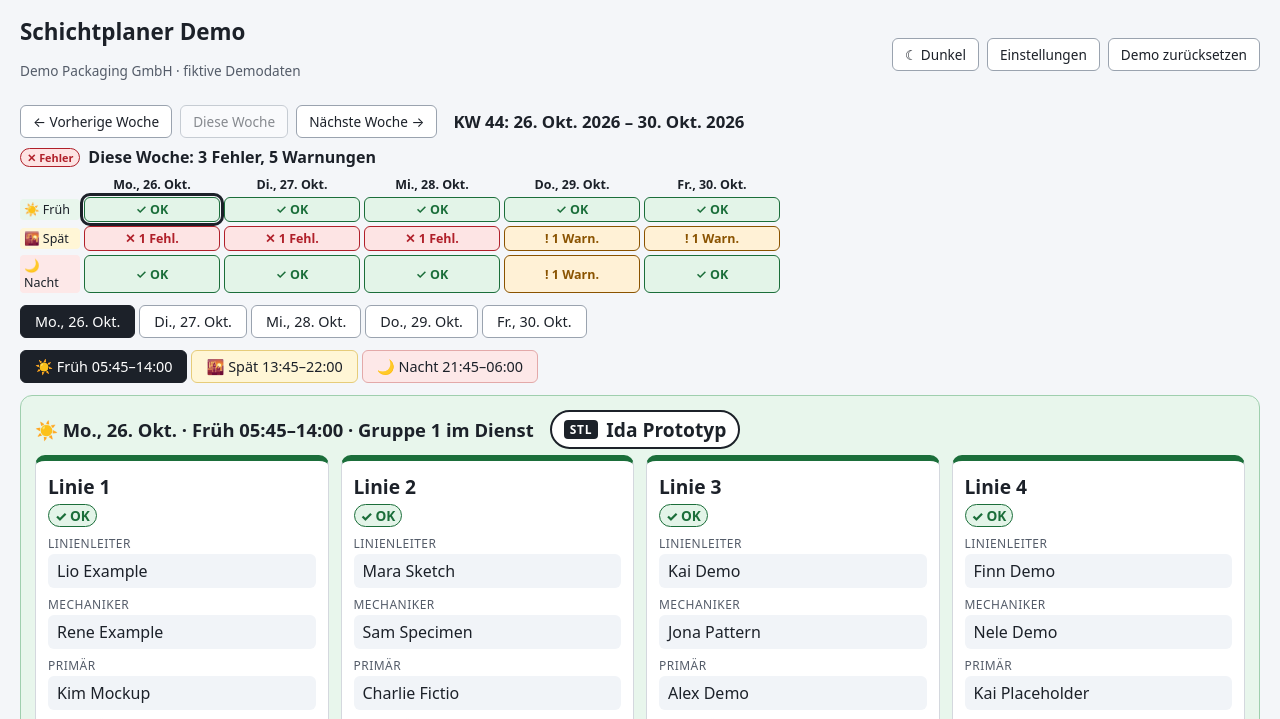
Test case: empty slots and cover › suggests a same-crew spare first
Click the button with aria-label ": Fehler,".
click(152, 239)  # box [84, 226, 220, 251]
(page scrolled)
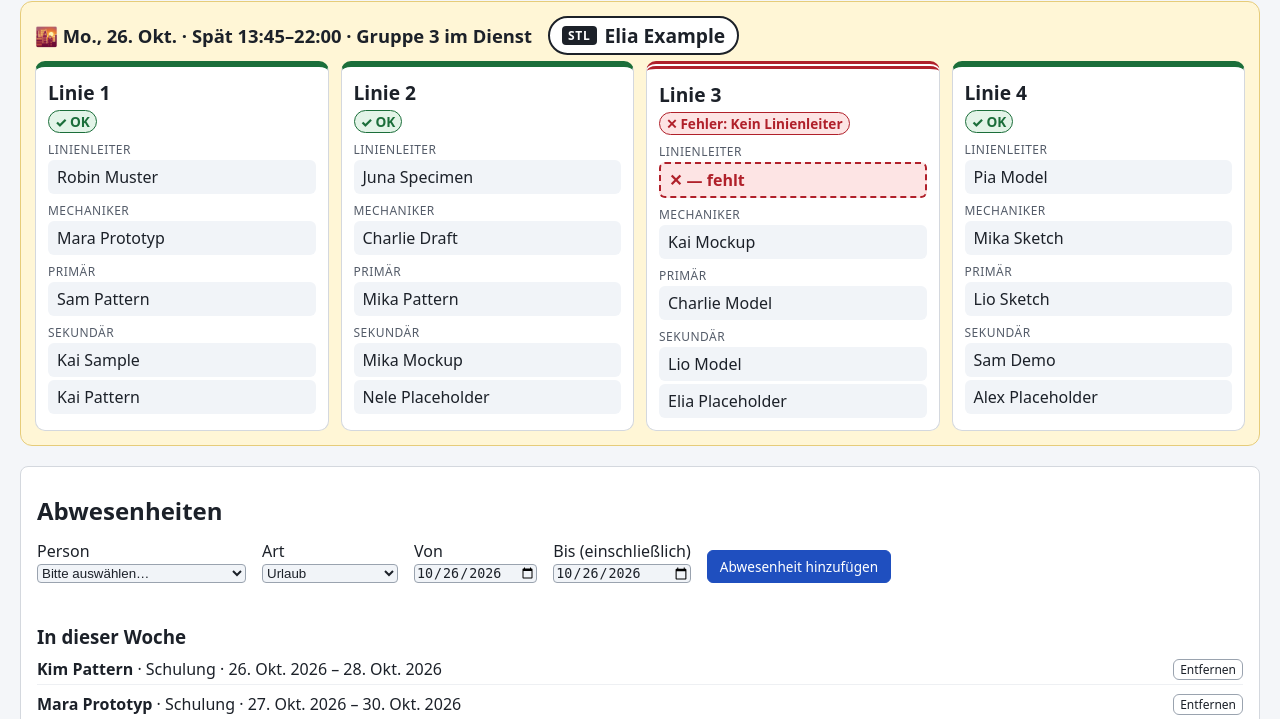
Click the button with aria-label "Sekundär: ".
click(98, 360)  # box [48, 343, 316, 377]
(page scrolled)
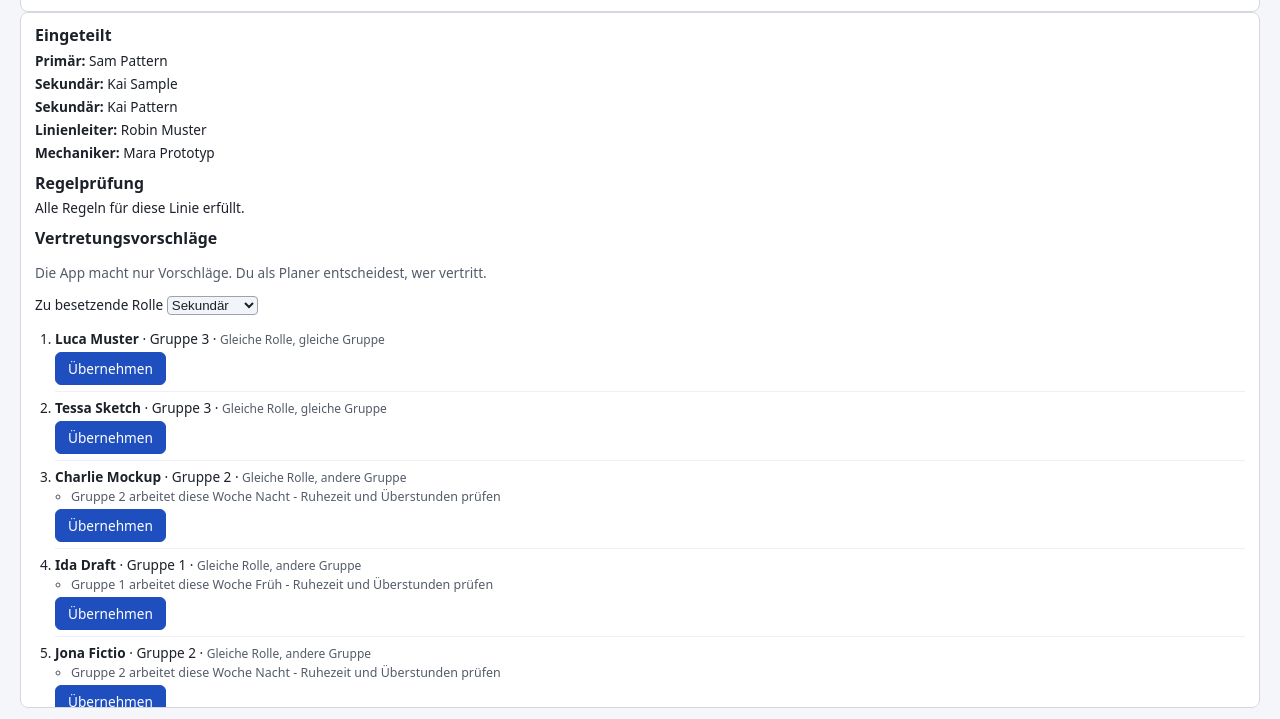
Expected: the list item that starts with "Luca Muster" shows "Gleiche Rolle, gleiche Gruppe", [220, 331, 385, 348]
